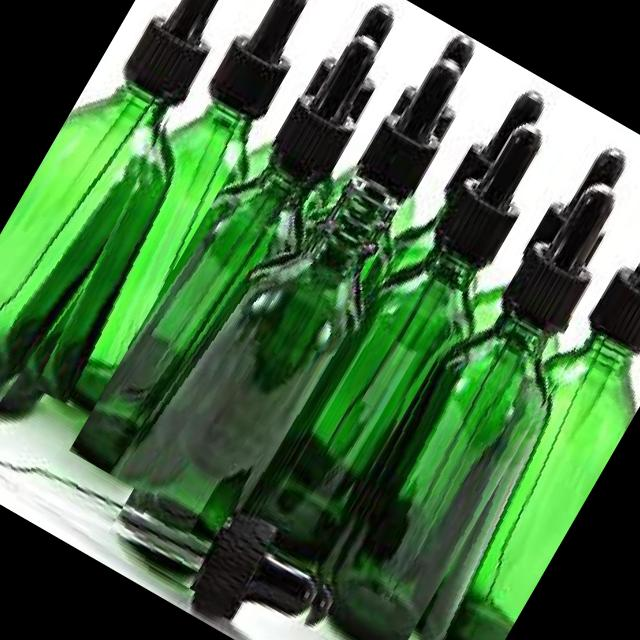Glass: (105, 154, 432, 600), (286, 284, 579, 640), (69, 138, 346, 507), (15, 80, 288, 435), (386, 307, 640, 640), (0, 60, 206, 440), (0, 424, 222, 599)
